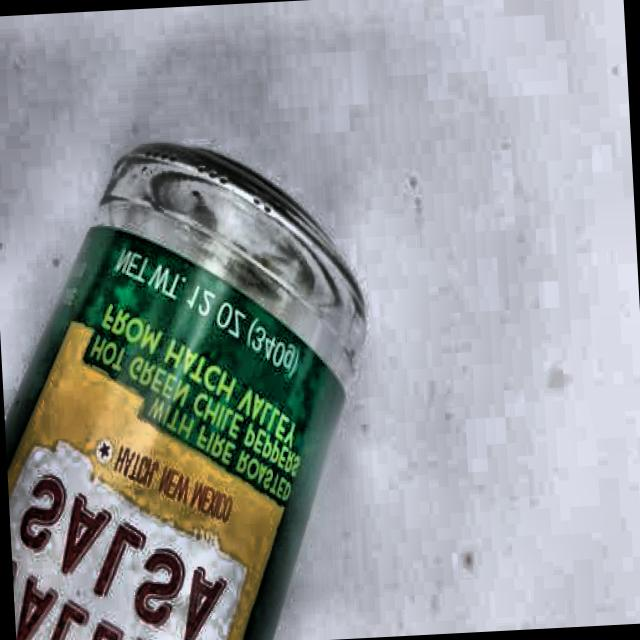glass: (0, 116, 388, 640)
